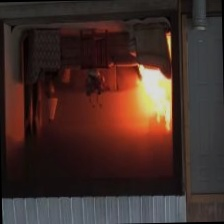fire: (132, 62, 179, 142)
